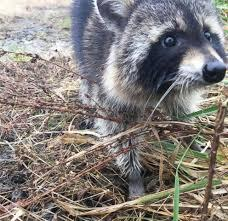raccoon: (55, 0, 228, 206)
